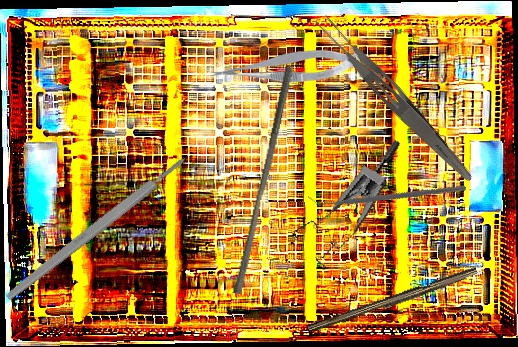Chopper: (307, 115, 467, 270)
Dressing Forceps: (310, 9, 482, 187)
Micro Scissor: (210, 49, 361, 83)
Pusher: (232, 63, 294, 296)
Scalpel Handle: (3, 154, 190, 303), (306, 263, 480, 339)
Speculum: (285, 117, 403, 278)
